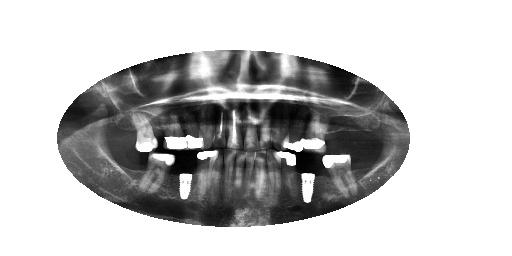i10chipped: (224, 149, 236, 199)
i11decay: (211, 150, 225, 206)
i12decay: (194, 151, 212, 201)
i13loss: (177, 157, 194, 200)
i14healthy: (139, 151, 176, 194)
i15loss: (127, 151, 143, 185)
i16loss: (109, 149, 126, 178)
i1loss: (371, 149, 389, 178)
i2loss: (353, 153, 371, 185)
i3healthy: (319, 155, 355, 198)
i4loss: (298, 156, 316, 206)
i5decay: (279, 151, 298, 203)
i6healthy: (267, 150, 281, 201)
i7decay: (256, 154, 266, 204)
i8decay: (244, 152, 258, 199)
i9decay: (234, 149, 245, 194)
u10decay: (213, 105, 229, 150)
u11decay: (201, 103, 217, 149)
u12decay: (184, 107, 204, 152)
u13healthy: (158, 110, 188, 151)
u14healthy: (133, 113, 157, 154)
u15loss: (123, 116, 136, 153)
u16loss: (108, 119, 124, 152)
u1loss: (360, 125, 374, 151)
u2loss: (344, 117, 359, 150)
u3loss: (331, 118, 344, 149)
u4healthy: (304, 109, 332, 153)
u5healthy: (281, 104, 311, 151)
u6decay: (272, 105, 287, 151)
u7decay: (261, 107, 271, 150)
u8healthy: (244, 108, 260, 150)
u9healthy: (228, 108, 243, 149)
